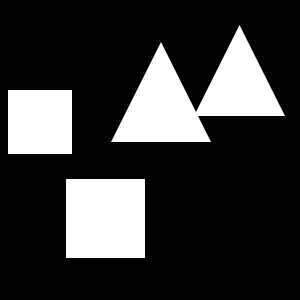circle: (66, 179, 145, 258), (8, 90, 72, 154)
triangle: (111, 42, 211, 142), (194, 25, 285, 116)
